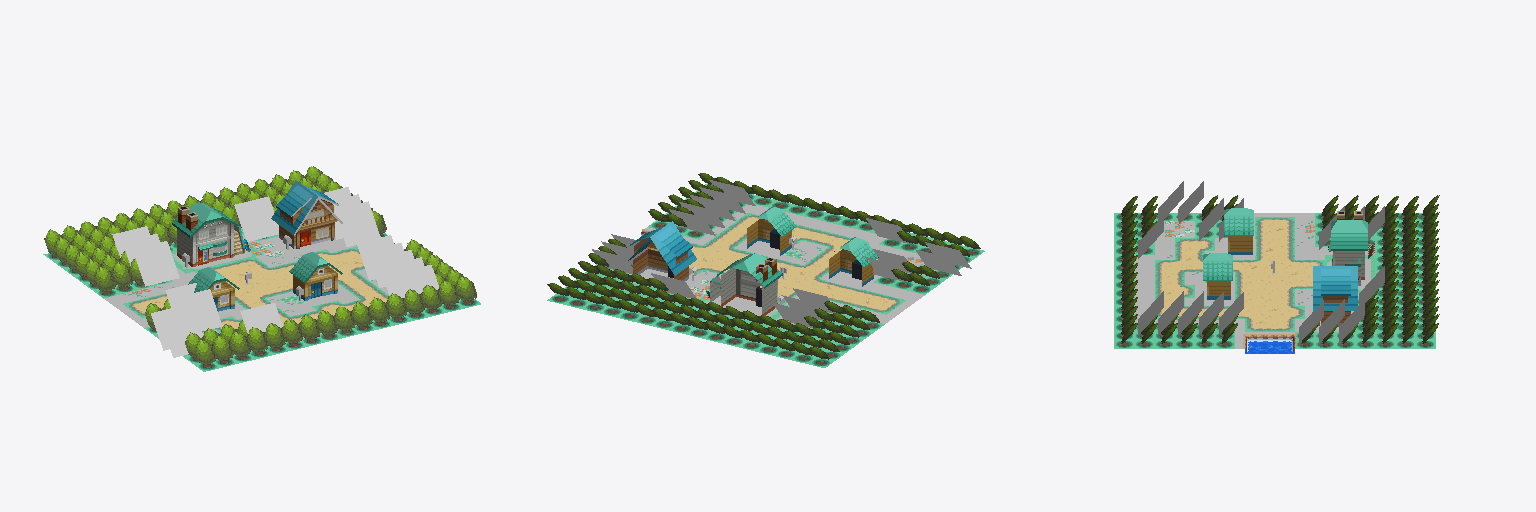
3 views of the same model, side by side, from view 1: azimuth 30°, elevation 25°; view 2: azimuth 150°, elevation 25°; view 3: azimuth 270°, elevation 25° (orthographic).
Parts seen in each view (by area): view 1: polygon7, polygon0, polygon2, polygon5, polygon6, polygon1, polygon0.002, polygon0.001, polygon0.006, polygon0.003; view 2: polygon7, polygon2, polygon0, polygon5, polygon6, polygon1, polygon0.002, polygon0.001, polygon0.006, polygon0.003; view 3: polygon7, polygon2, polygon0, polygon6, polygon5, polygon1, polygon0.001, polygon0.002, polygon0.003, polygon0.006, polygon8.
Part boxes in pixels (bbox=[...]): polygon7: bbox=[44, 166, 476, 364]; polygon0: bbox=[112, 187, 438, 357]; polygon2: bbox=[43, 228, 480, 371]; polygon5: bbox=[104, 235, 407, 337]; polygon6: bbox=[136, 252, 385, 328]; polygon1: bbox=[123, 247, 388, 332]; polygon0.002: bbox=[172, 202, 244, 266]; polygon0.001: bbox=[271, 180, 342, 248]; polygon0.006: bbox=[289, 252, 342, 300]; polygon0.003: bbox=[188, 267, 239, 311]; polygon7: bbox=[547, 173, 980, 359]; polygon2: bbox=[547, 183, 984, 367]; polygon0: bbox=[592, 180, 971, 327]; polygon5: bbox=[629, 205, 935, 328]; polygon6: bbox=[689, 219, 891, 308]; polygon1: bbox=[689, 213, 905, 314]; polygon0.002: bbox=[710, 253, 782, 314]; polygon0.001: bbox=[628, 221, 696, 280]; polygon0.006: bbox=[747, 207, 796, 255]; polygon0.003: bbox=[829, 237, 878, 286]; polygon7: bbox=[1121, 195, 1439, 343]; polygon2: bbox=[1114, 213, 1435, 348]; polygon0: bbox=[1138, 181, 1384, 343]; polygon6: bbox=[1165, 221, 1314, 326]; polygon5: bbox=[1135, 213, 1374, 348]; polygon1: bbox=[1155, 217, 1324, 331]; polygon0.001: bbox=[1313, 266, 1357, 326]; polygon0.002: bbox=[1329, 219, 1367, 285]; polygon0.003: bbox=[1224, 208, 1253, 254]; polygon0.006: bbox=[1203, 253, 1232, 299]; polygon8: bbox=[1245, 341, 1294, 353].
Size of the model in its own units: 8.25 by 1.54 by 8.25.
Materials: 39 (24 with a texture image).